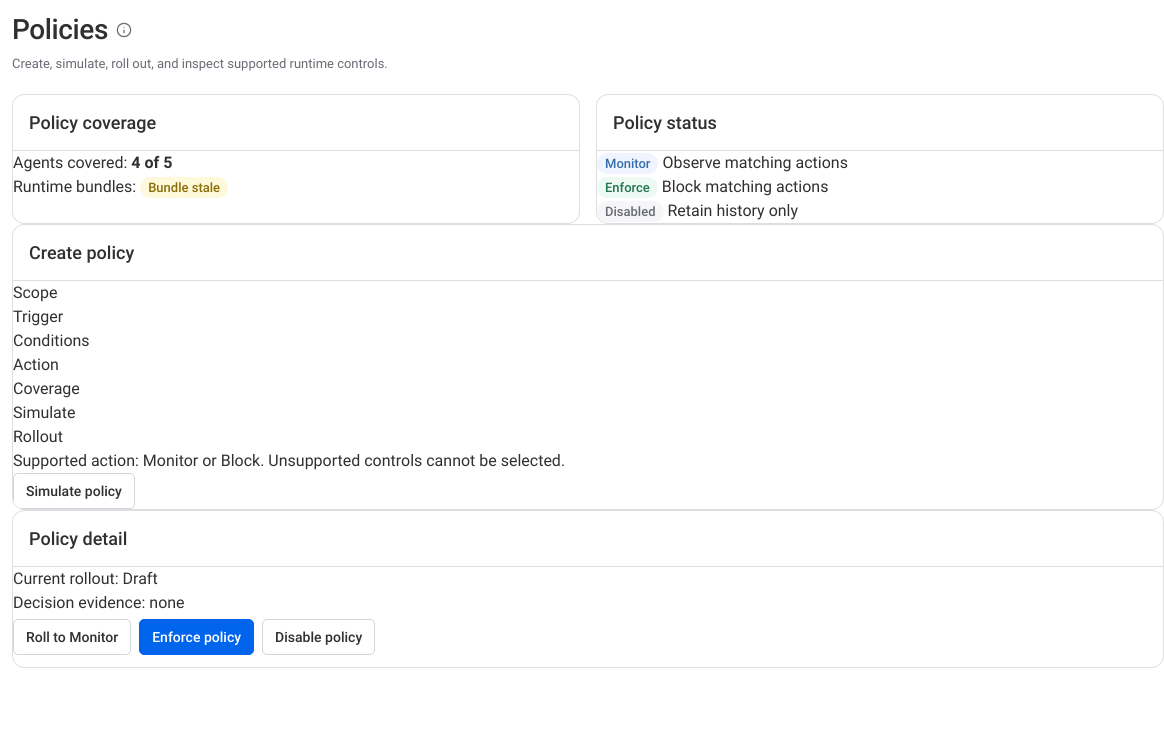
Scenario: Policies administration surface › renders status, coverage, wizard, simulation, decisions, rollout, and disable
The width and height of the screenshot is (1164, 732).
Expected: the text "Monitor" is shown, top-left (597, 153), bottom-right (658, 174)
Expected: the text "Enforce" is shown, top-left (597, 177), bottom-right (658, 198)
Click the button "Simulate policy". click: {"x": 74, "y": 491}
box: top-left (13, 473), bottom-right (135, 509)
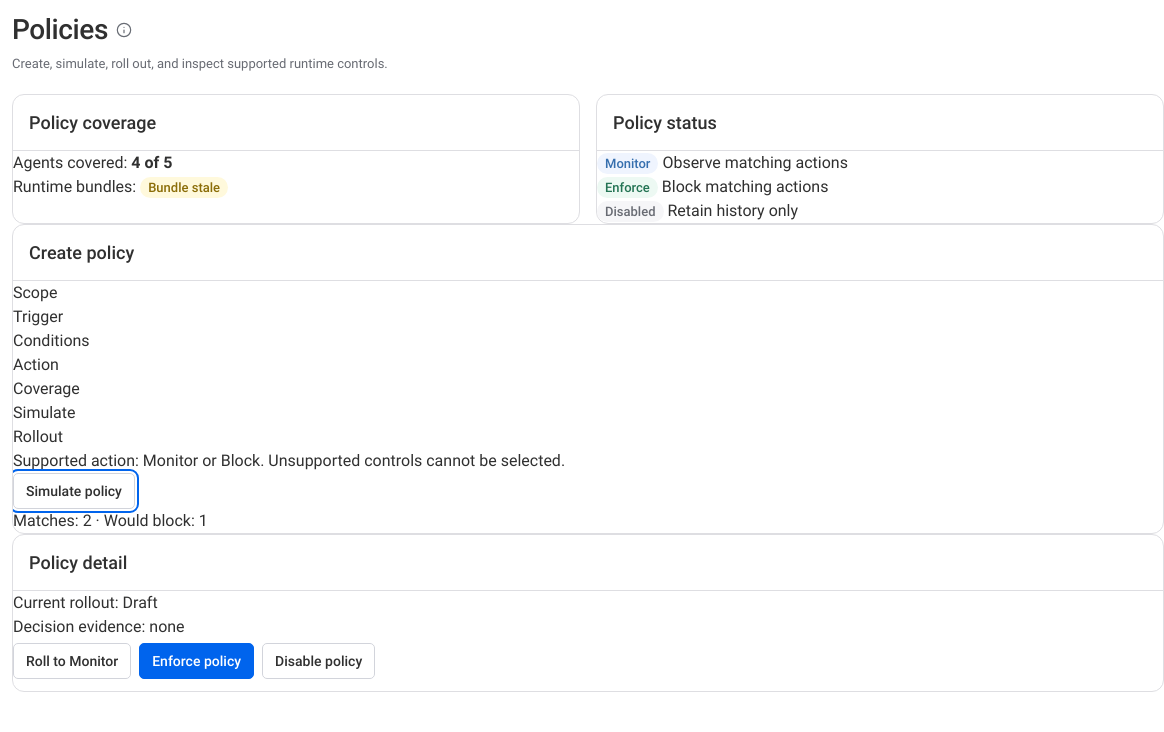
Expected: the text "Matches: 2 · Would block: 1" is shown, top-left (13, 511), bottom-right (208, 530)
Click the button "Roll to Monitor". click: {"x": 72, "y": 661}
box: top-left (13, 643), bottom-right (131, 679)
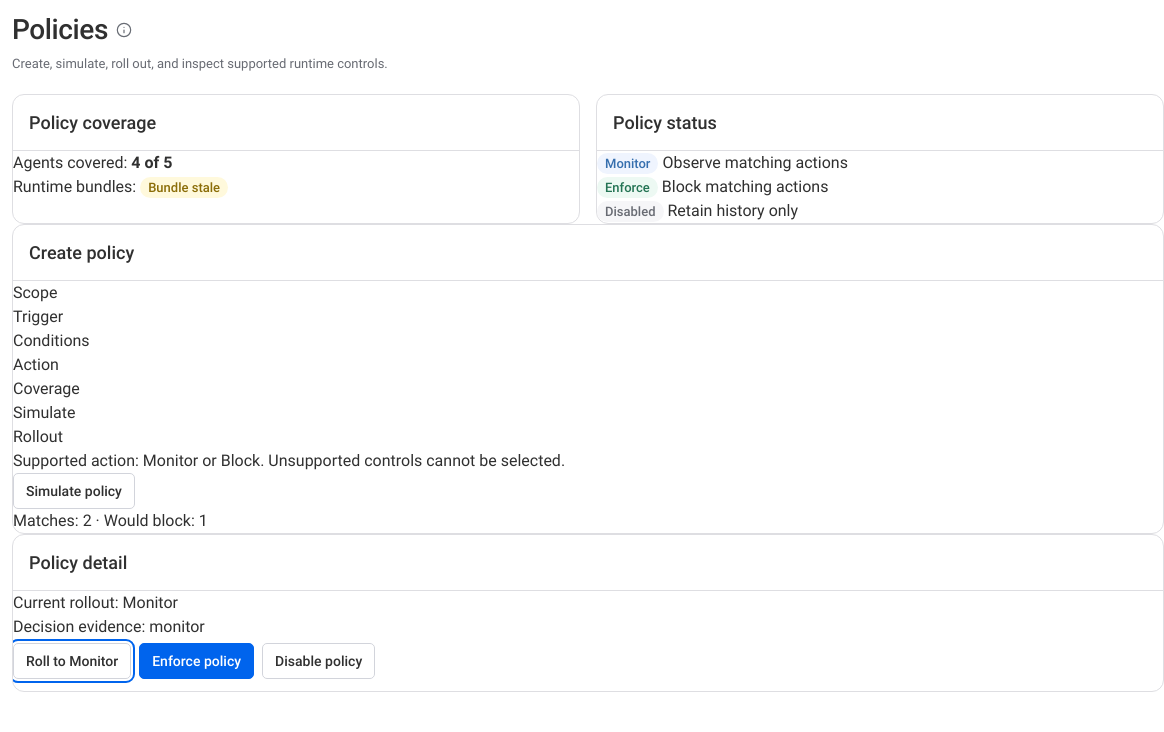
Click the button "Enforce policy". click: {"x": 197, "y": 661}
box: top-left (139, 643), bottom-right (254, 679)
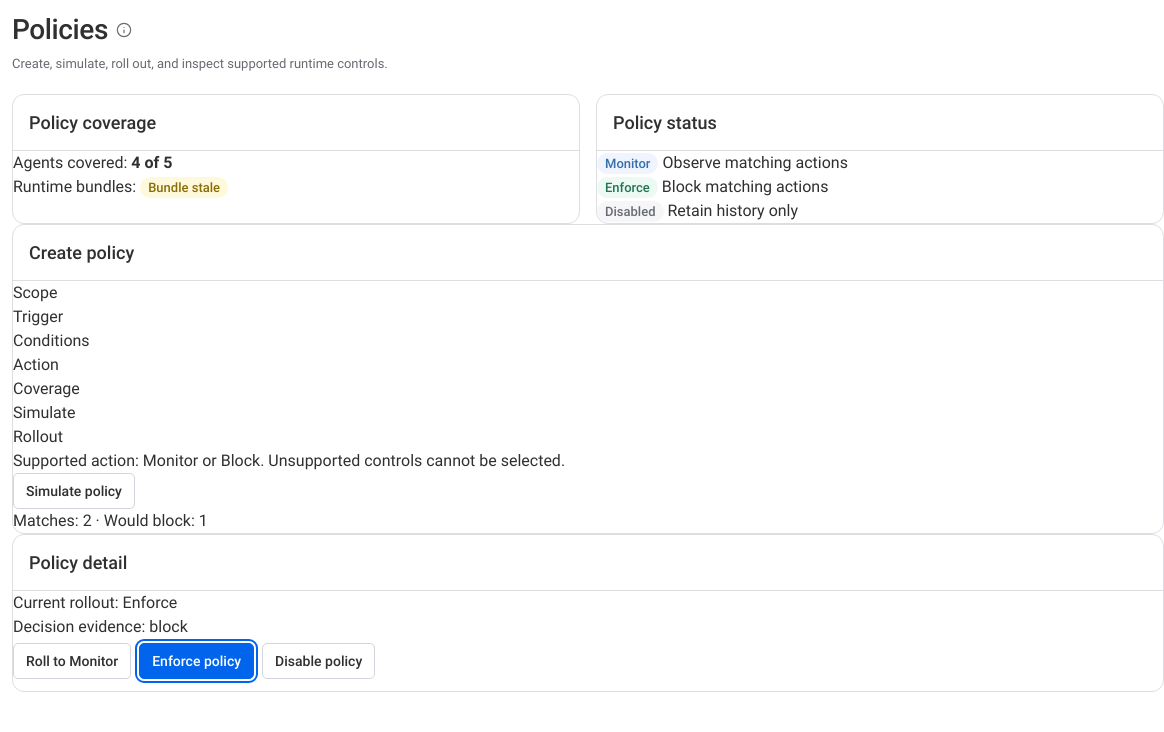
Expected: the text "Current rollout: Enforce" is shown, top-left (13, 593), bottom-right (177, 612)
Expected: the text "Decision evidence: block" is shown, top-left (13, 617), bottom-right (188, 636)
Click the button "Disable policy". click: {"x": 319, "y": 661}
box: top-left (262, 643), bottom-right (375, 679)
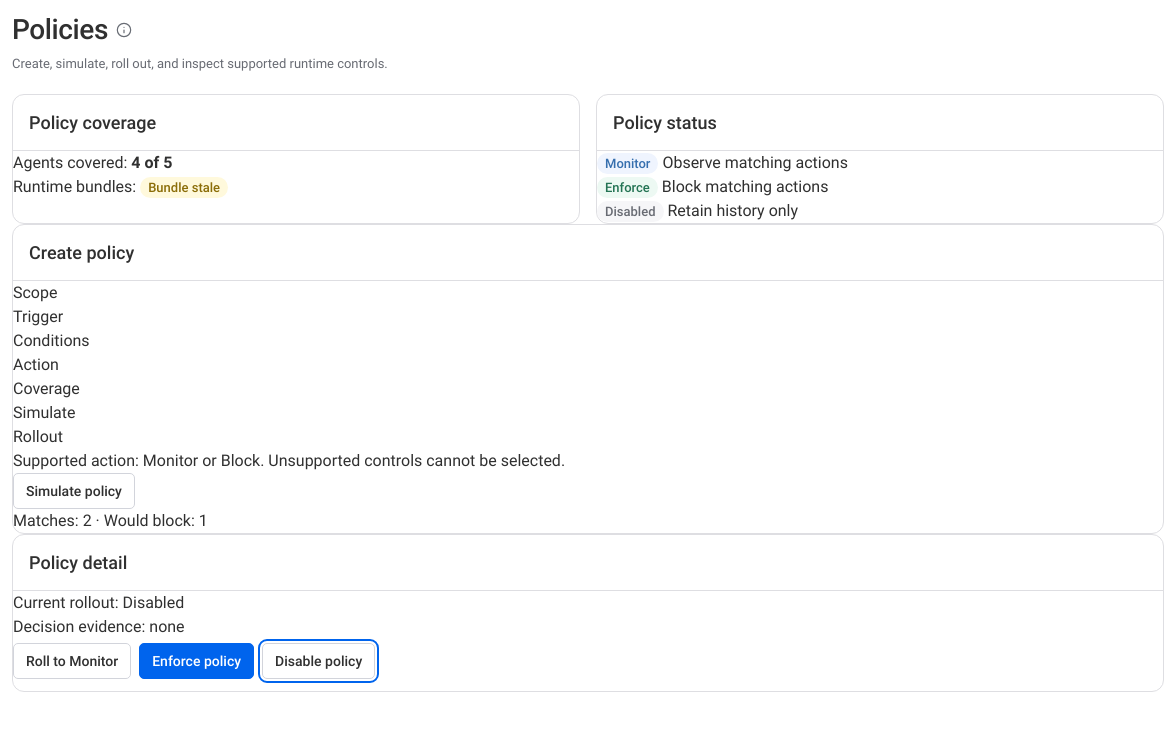
Expected: the text "Current rollout: Disabled" is shown, top-left (13, 593), bottom-right (184, 612)
